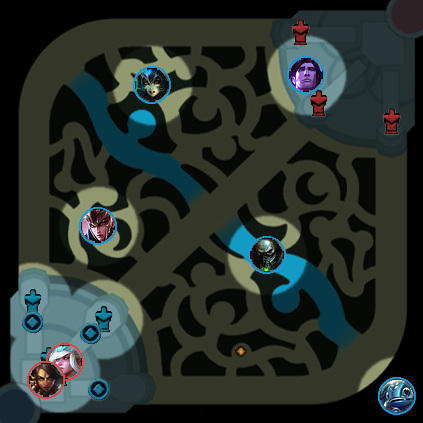Fizz: (378, 377, 416, 415)
Janna: (46, 343, 84, 381)
Nami: (133, 66, 171, 104)
Nidalee: (27, 361, 65, 399)
Quinn: (79, 207, 117, 245)
Taric: (287, 56, 325, 94)
Urgot: (248, 236, 286, 274)
